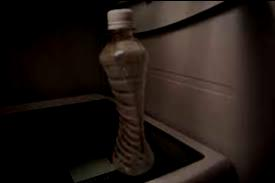Plastic: (96, 3, 157, 179)
